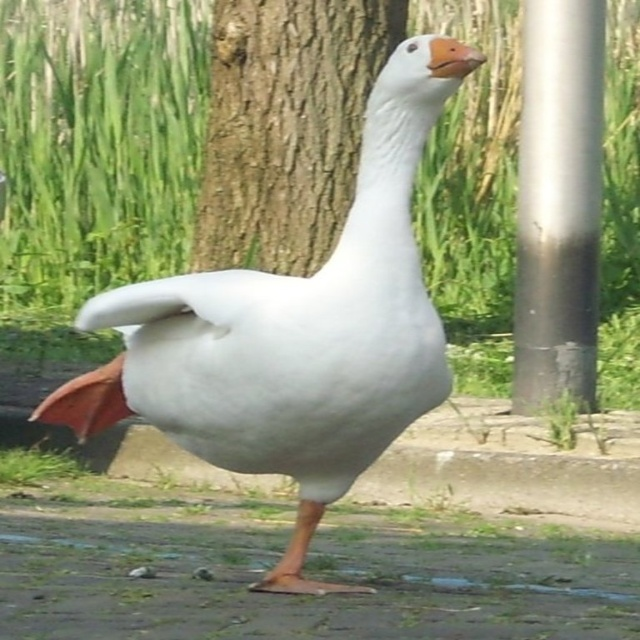Goose: (31, 27, 487, 598)
